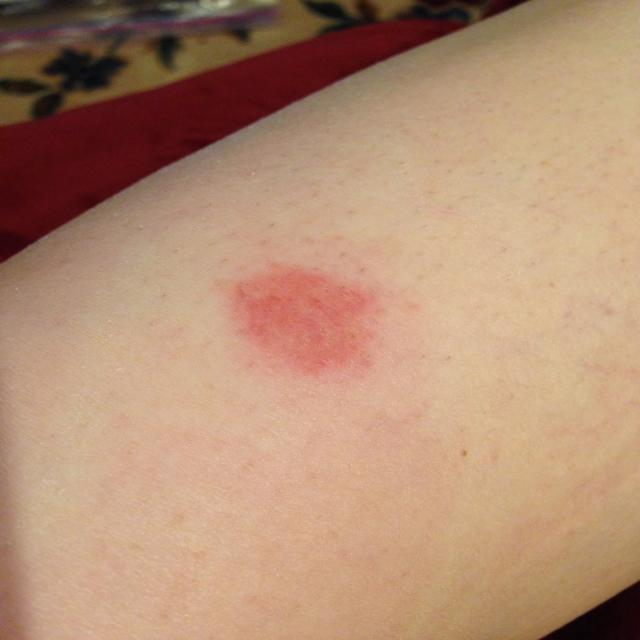kene: (214, 263, 398, 384)
